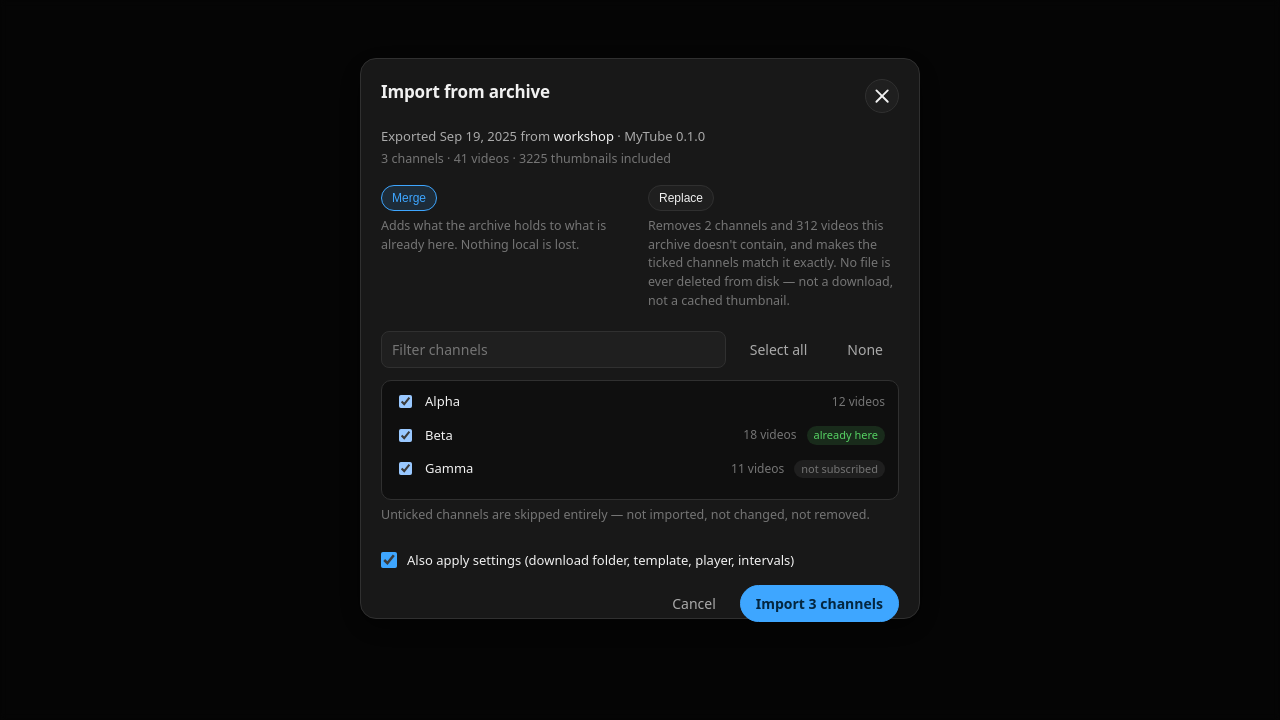
Test: TransferDialog › does not move the removal counts as channels are unticked
Click the button "Replace" at point(681, 198), box [648,185,714,211]
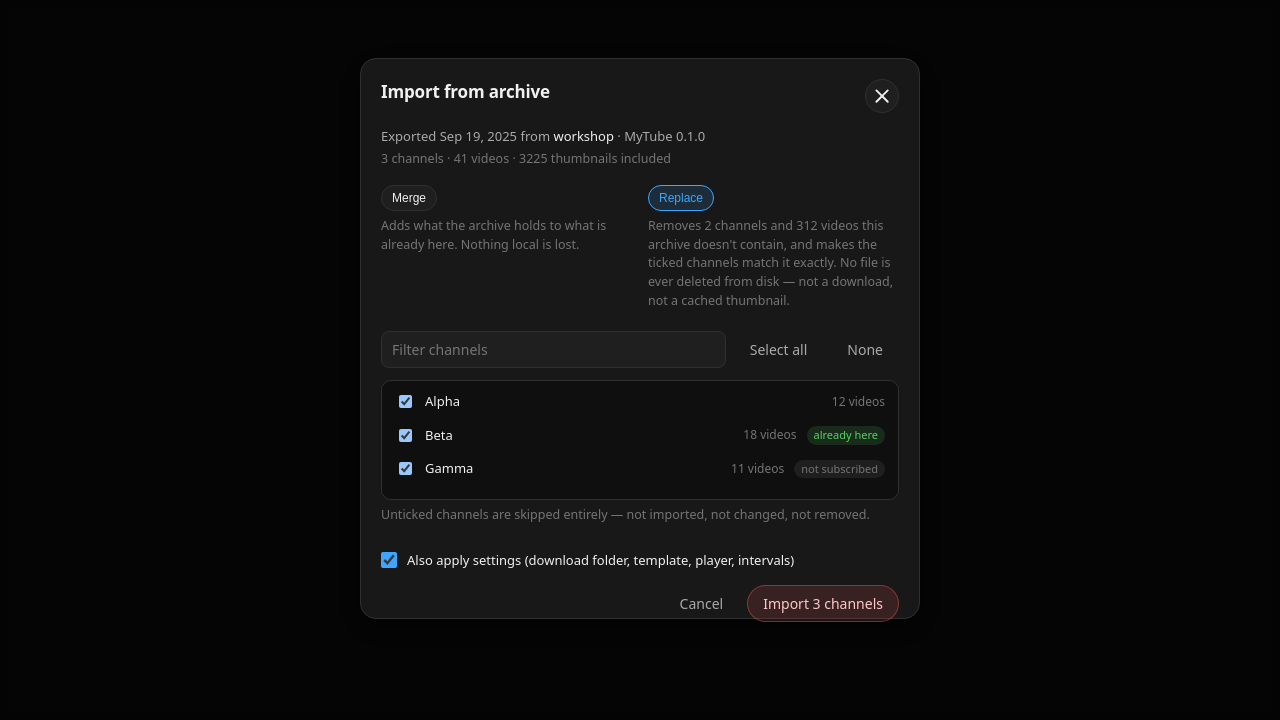
Click the checkbox labelled "Beta 18 videos already here" at point(406, 435), box [399,429,412,442]
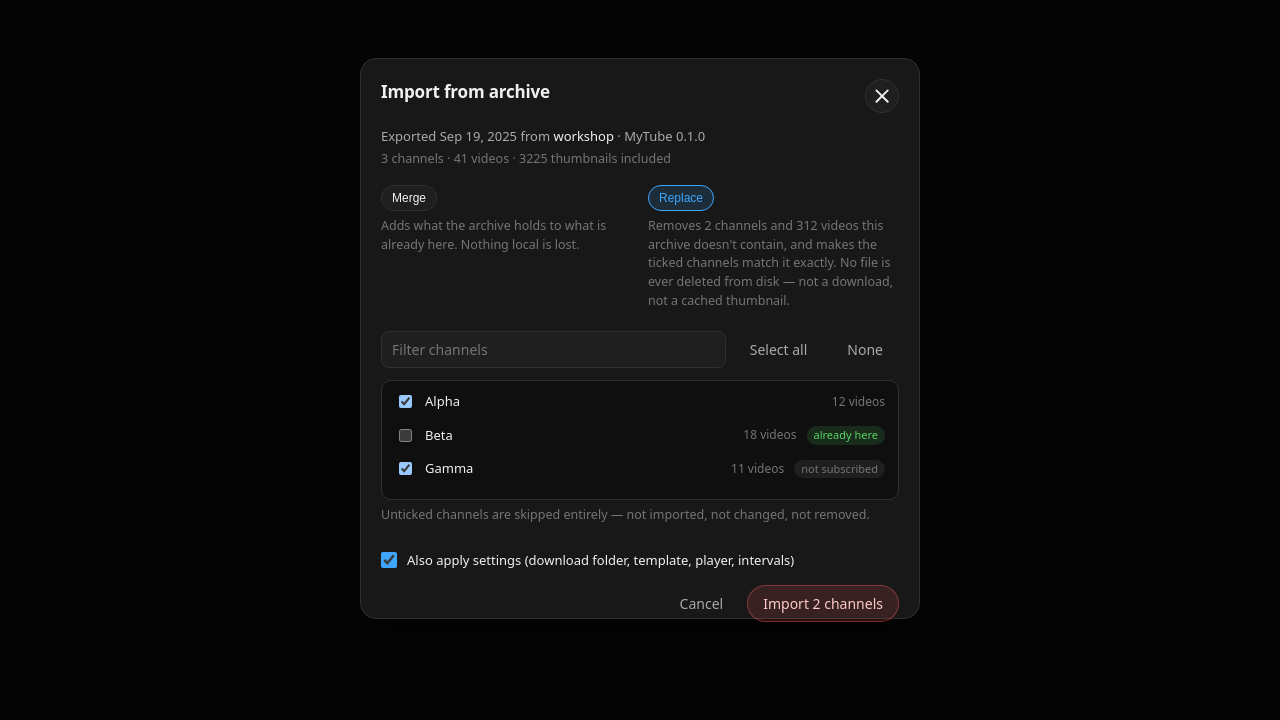
Click the checkbox labelled "Gamma 11 videos not subscribed" at point(406, 469), box [399,462,412,475]
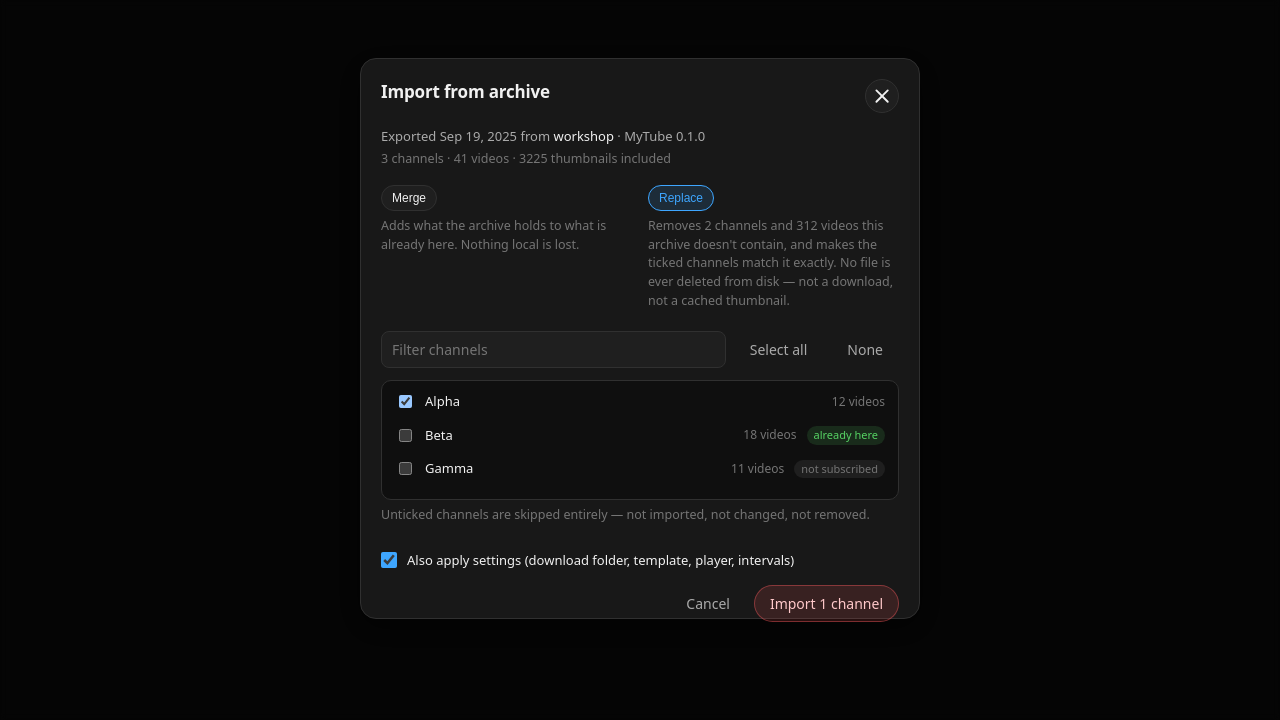
Expected: the text "Removes 2 channels and 312 videos" is shown, [648,217,893,309]
Click the button "Import 1 channel" at point(826, 603), box [754,585,899,622]
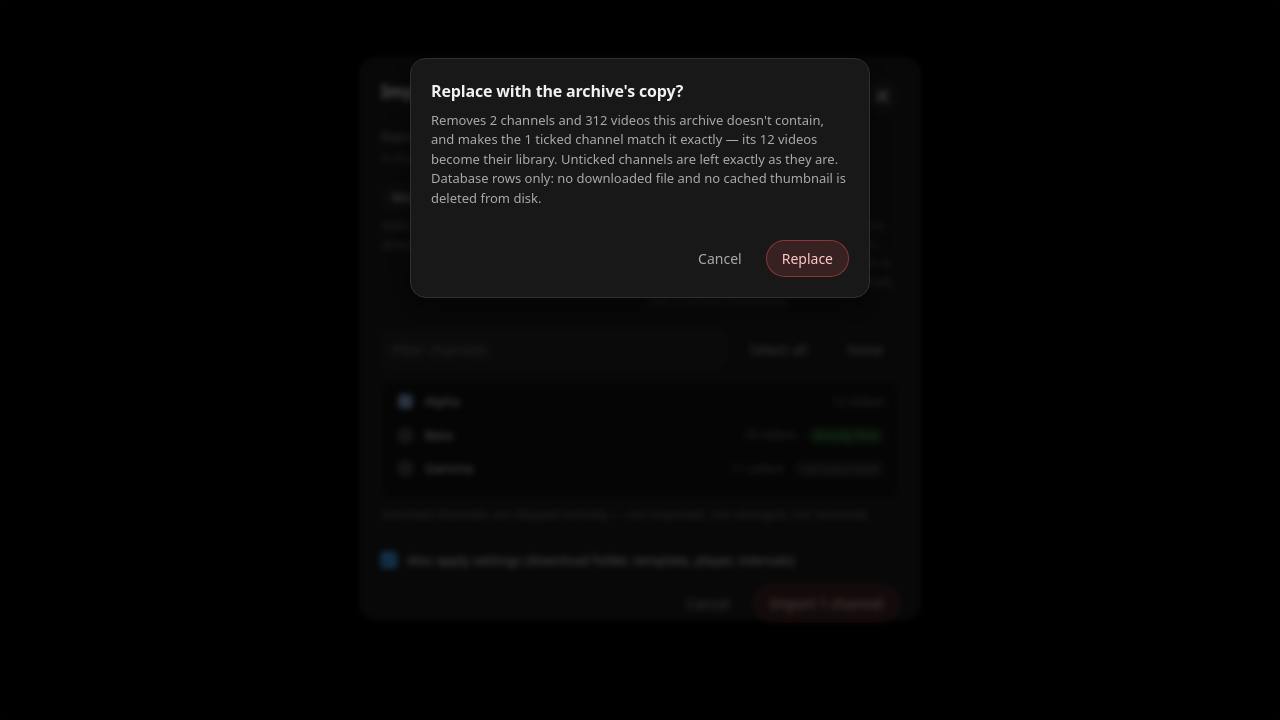
Now the text "Removes 2 channels and 312 videos" shows "Unticked channels are left exactly as they are", box [431,111,846,207]
